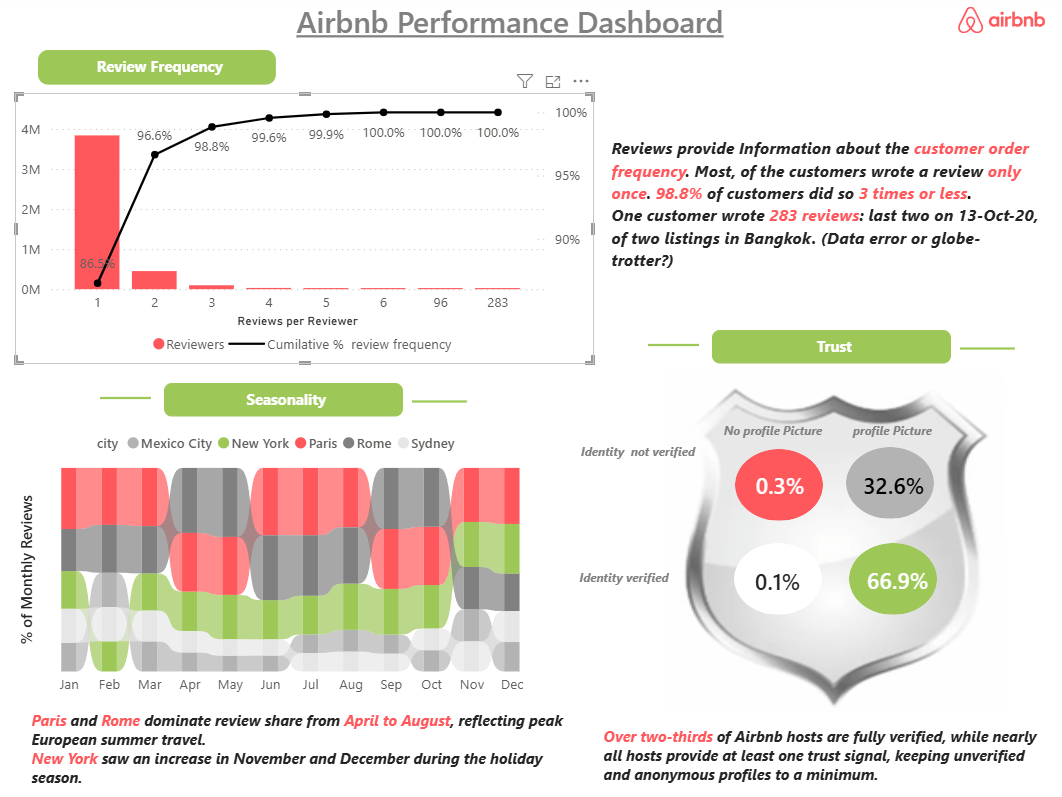

Layout of this report page (visuals, bound fields, positions):
{"tool":"powerbi","page":{"name":"reviews","canvas":[960,720],"ordinal":2},"visuals":[{"type":"textbox","box":[223,-0.5,480,50.1],"z":0},{"type":"image","box":[864.2,4.9,77.9,34],"z":1000},{"type":"textbox","box":[549,120.9,393.1,129.9],"z":2000},{"type":"textbox","box":[40,48.5,213.1,30.8],"z":3000},{"type":"textbox","box":[643.9,299.1,214,30.4],"z":4000,"group":"g1"},{"type":"textbox","box":[153.1,346.6,214,30.4],"z":4000,"group":"g2"},{"type":"shape","box":[866,301.8,49.3,27.8],"z":5000,"group":"g1"},{"type":"shape","box":[375.2,349.3,49.3,27.8],"z":5000,"group":"g2"},{"type":"textbox","box":[541.8,649.3,407.5,70.7],"z":5000},{"type":"lineStackedColumnComboChart","fields":{"Y":["Reviews.Reviewers"],"Y2":["Reviews.Cumulative % Review Frequency"],"Category":["Reviews.Reviews per Reviewer"]},"box":[19.7,86.9,518.5,242.7],"z":6000},{"type":"shape","box":[586.6,297.3,45.7,30.4],"z":6000,"group":"g1"},{"type":"shape","box":[95.8,344.8,45.7,30.4],"z":6000,"group":"g2"},{"type":"image","box":[600.9,337.6,304.5,303.6],"z":7000},{"type":"shape","box":[664.5,405.7,78.8,64.5],"z":8000},{"type":"shape","box":[763.9,403.9,78.8,64.5],"z":9000},{"type":"shape","box":[663.6,489.9,78.8,64.5],"z":10000},{"type":"shape","box":[766.6,489.9,78.8,64.5],"z":11000},{"type":"textbox","box":[637.6,374.3,121.8,31.3],"z":12000},{"type":"textbox","box":[752.2,374.3,106.6,29.6],"z":13000},{"type":"textbox","box":[510.4,393.1,134.3,44.8],"z":14000},{"type":"textbox","box":[518.5,506,93.1,48.4],"z":15000},{"type":"cardVisual","fields":{"Data":["Listings.Ver_NoPP %"]},"box":[652.8,483.6,106.6,77],"z":16000},{"type":"cardVisual","fields":{"Data":["Listings.Ver_PP %"]},"box":[751.3,483.6,118.2,70.7],"z":17000},{"type":"cardVisual","fields":{"Data":["Listings.NoVer_NoPP %"]},"box":[651,405.7,108.4,60],"z":18000},{"type":"cardVisual","fields":{"Data":["Listings.NoVer_PP %"]},"box":[743.3,388.7,127.2,94],"z":19000},{"type":"group","id":"g1","title":"Group 1","box":[586.6,297.3,328.7,32.2],"z":20000},{"type":"group","id":"g2","title":"Group 1","box":[95.8,344.8,328.7,32.2],"z":21000},{"type":"ribbonChart","fields":{"Category":["Reviews.Reviews Months"],"Y":["Listings.% of Monthly Reviews"],"Series":["Listings.city"]},"box":[19.7,380.6,471.9,254.3],"z":22000},{"type":"textbox","box":[29.6,634.9,496.1,85.1],"z":23000}]}

Visuals, with their boxes in screenshot pixels (x1, y1, x2, y2), scaled from the page's 960x720 canvas onto the 1062x797 screenshot:
textbox: detection(247, 0, 778, 55)
image: detection(956, 5, 1042, 43)
textbox: detection(607, 134, 1042, 278)
textbox: detection(44, 54, 280, 88)
textbox: detection(712, 331, 949, 365)
textbox: detection(169, 384, 406, 417)
shape: detection(958, 334, 1013, 365)
shape: detection(415, 387, 470, 417)
textbox: detection(599, 719, 1050, 796)
lineStackedColumnComboChart - Reviews.Reviewers x Reviews.Cumulative % Review Frequency: detection(22, 96, 595, 365)
shape: detection(649, 329, 699, 363)
shape: detection(106, 382, 157, 415)
image: detection(665, 374, 1002, 710)
shape: detection(735, 449, 822, 520)
shape: detection(845, 447, 932, 518)
shape: detection(734, 542, 821, 614)
shape: detection(848, 542, 935, 614)
textbox: detection(705, 414, 840, 449)
textbox: detection(832, 414, 950, 447)
textbox: detection(565, 435, 713, 485)
textbox: detection(574, 560, 677, 614)
cardVisual - Listings.Ver_NoPP %: detection(722, 535, 840, 621)
cardVisual - Listings.Ver_PP %: detection(831, 535, 962, 614)
cardVisual - Listings.NoVer_NoPP %: detection(720, 449, 840, 516)
cardVisual - Listings.NoVer_PP %: detection(822, 430, 963, 534)
"Group 1" group: detection(649, 329, 1013, 365)
"Group 1" group: detection(106, 382, 470, 417)
ribbonChart - Reviews.Reviews Months x Listings.% of Monthly Reviews: detection(22, 421, 544, 703)
textbox: detection(33, 703, 582, 796)
